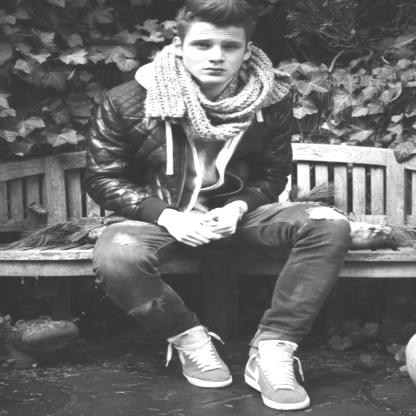dress: (81, 197, 353, 346), (84, 38, 304, 215)
jean: (86, 0, 366, 411)
